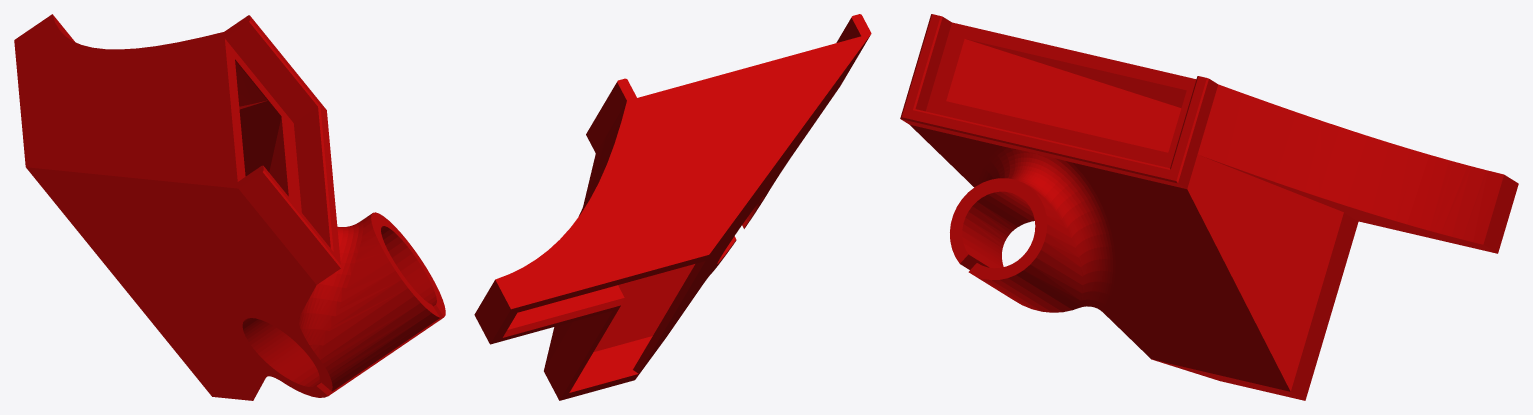
The model's file is nozzle1_1.dae.
3 views of the same model, side by side, from view 1: azimuth 30°, elevation 25°; view 2: azimuth 150°, elevation 25°; view 3: azimuth 270°, elevation 25° (orthographic). The views are drawn at different scales.
Parts seen in each view (by area): view 1: scrap16; view 2: scrap16; view 3: scrap16.
Boxes of the visible parts, x1=… form: scrap16: x1=14, y1=14, x2=445, y2=400; scrap16: x1=474, y1=14, x2=871, y2=400; scrap16: x1=900, y1=14, x2=1518, y2=400.
Size of the model in its own units: 0.0458 by 0.1215 by 0.069.
